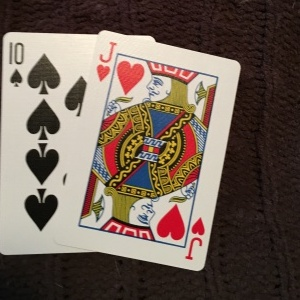card: (58, 28, 242, 272), (1, 29, 89, 259)
